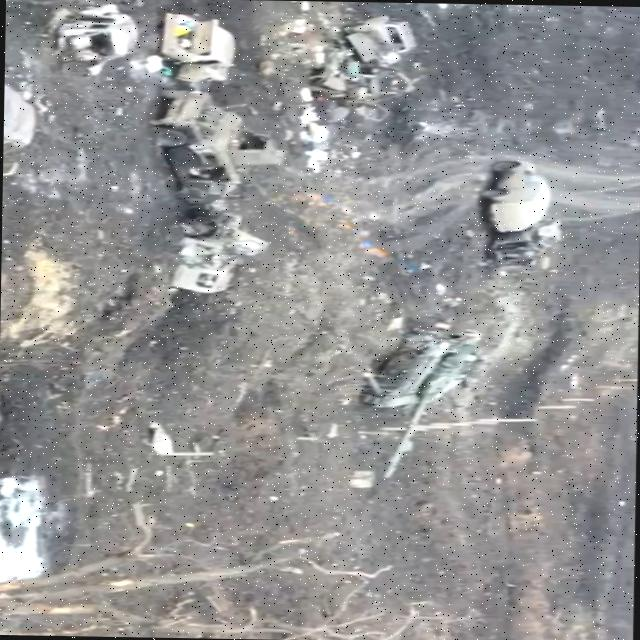Destroyed: (174, 207, 269, 295), (46, 1, 143, 77), (312, 66, 422, 122), (484, 219, 567, 276), (4, 82, 44, 177)
MBT: (362, 325, 485, 481)
Vehicle: (144, 87, 287, 207), (153, 13, 244, 83), (474, 158, 553, 232), (343, 15, 420, 67)
